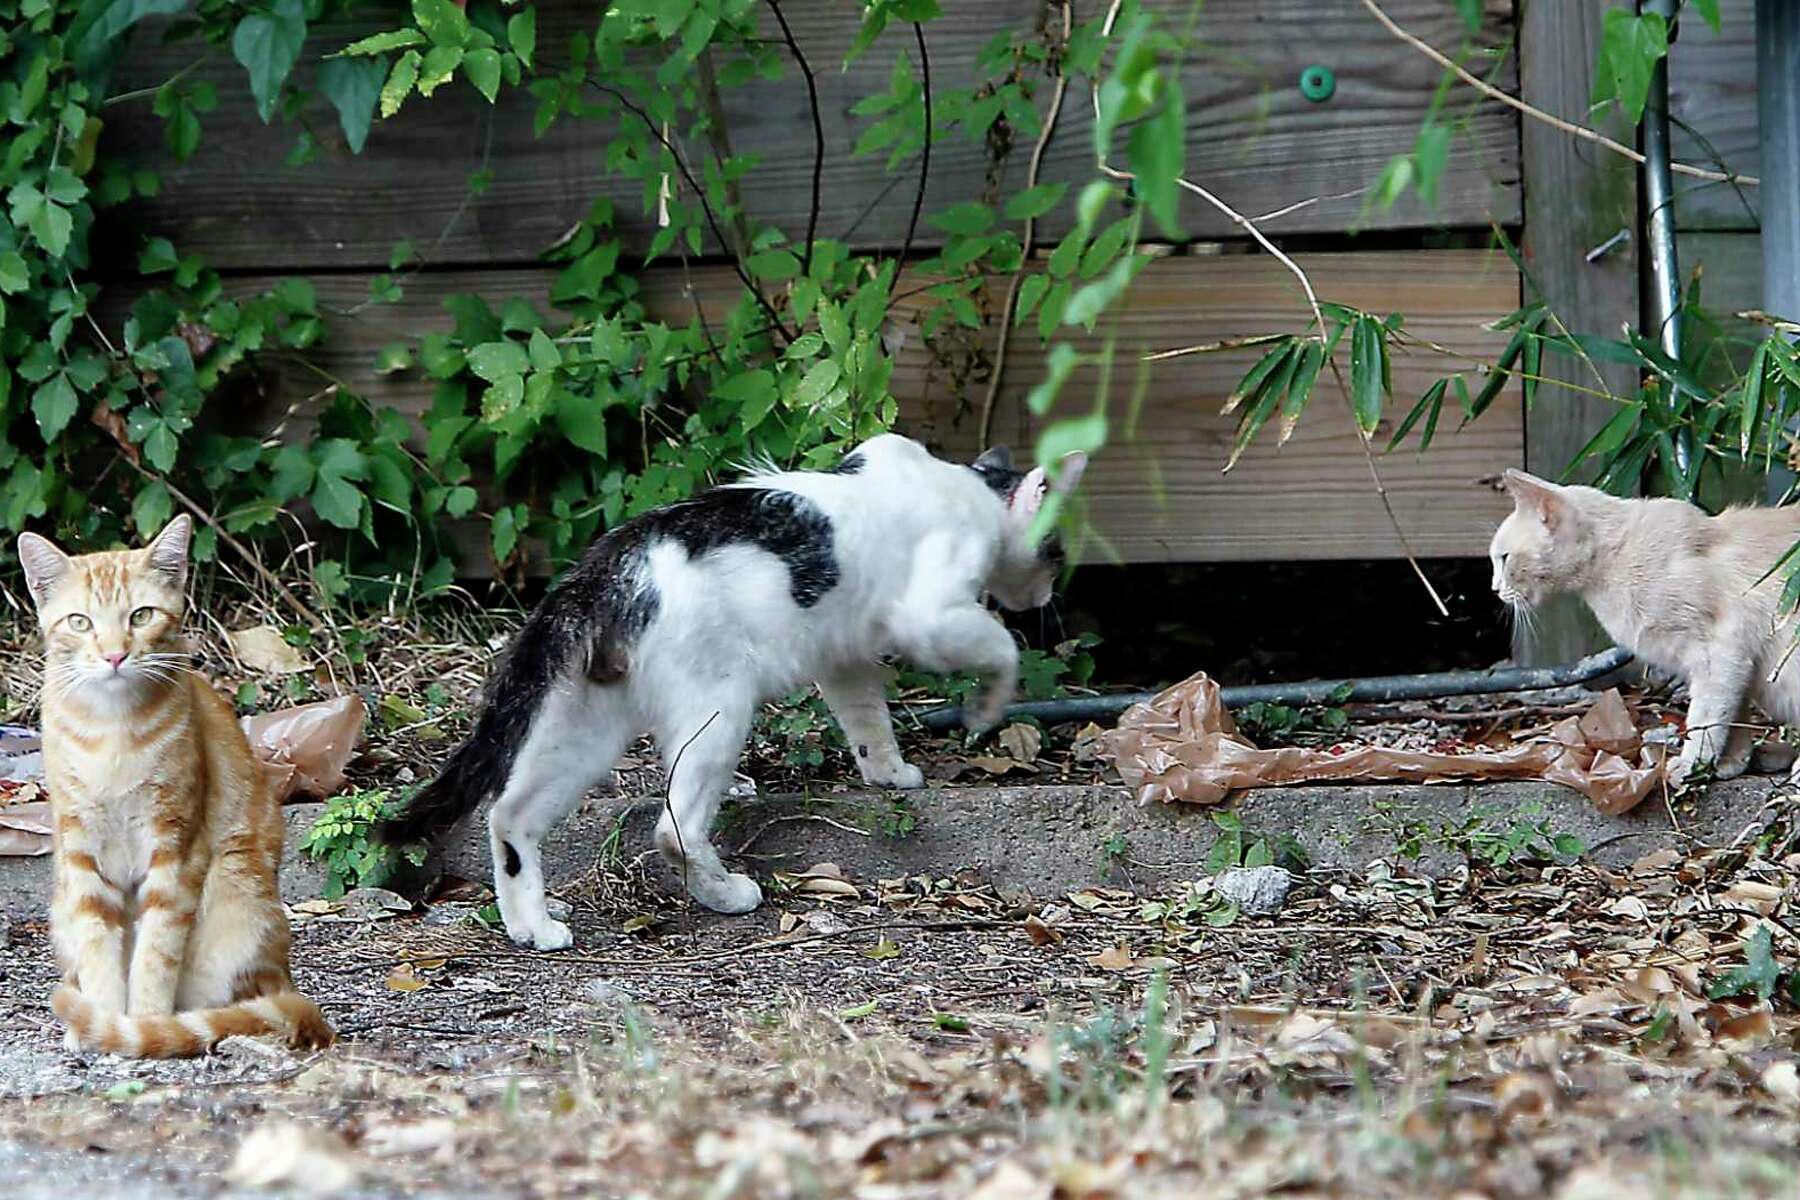Cat: (1, 479, 303, 1102), (1465, 445, 1800, 793)
